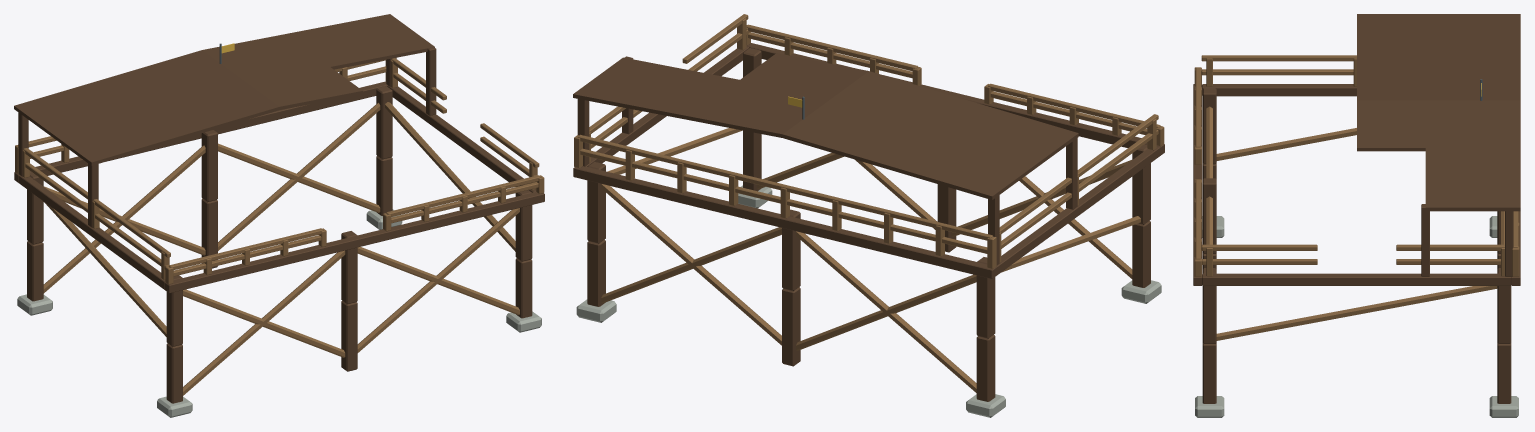
The model's file is watchtower.glb.
The picture shows the model from 3 angles, left to right: view 1: azimuth 30°, elevation 25°; view 2: azimuth 150°, elevation 25°; view 3: azimuth 270°, elevation 25°; orthographic projection. The views are drawn at different scales.
Parts seen in each view (by area): view 1: Occlude_Top_Mesh, Keep_Mesh; view 2: Occlude_Top_Mesh, Keep_Mesh; view 3: Occlude_Top_Mesh, Keep_Mesh.
Boxes of the visible parts, x1,y1,x2,y2 form: Occlude_Top_Mesh: (14,14,544,346); Keep_Mesh: (17,156,541,417); Occlude_Top_Mesh: (573,14,1164,338); Keep_Mesh: (576,130,1161,417); Occlude_Top_Mesh: (1193,14,1520,343); Keep_Mesh: (1195,163,1518,417).
Size of the model in its own units: 14 by 8.2 by 10.
